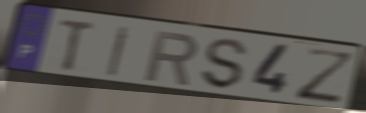4: (251, 41, 293, 100)
I: (105, 24, 133, 79)
R: (142, 28, 200, 88)
S: (200, 37, 249, 92)
T: (57, 17, 99, 73)
Z: (292, 45, 358, 105)
